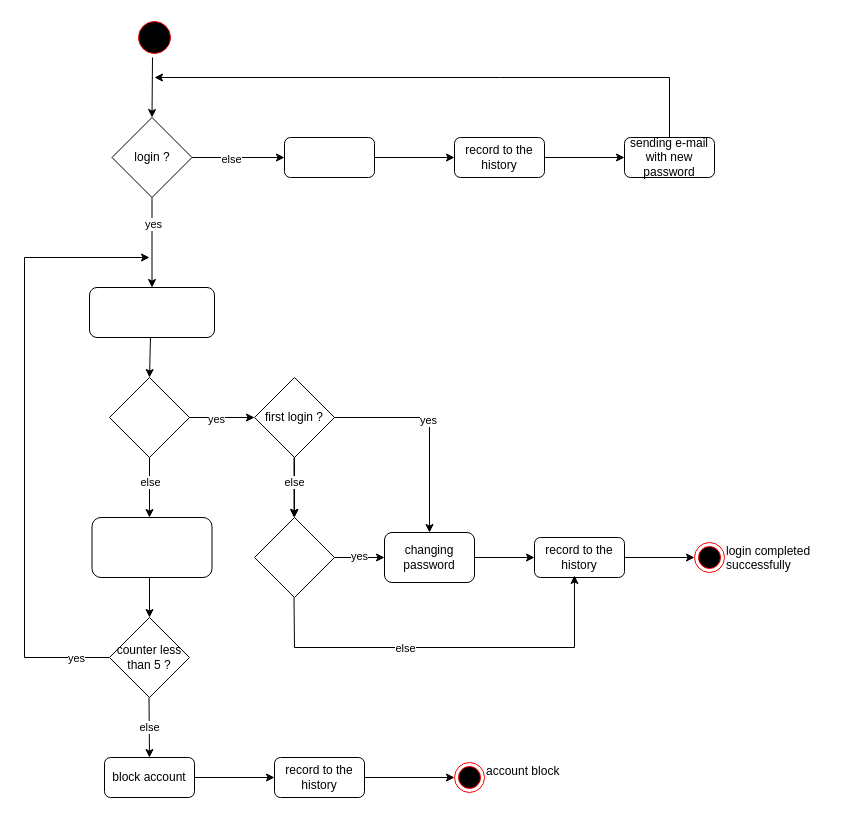
This 842x815 diagram has some shape labels left out. Each missing label, with the centre of its shape:
entering ID and password: point 151,312
increase the counter of incorrect attepts: point 151,547
password active for 90 days: point 294,557
reset password: point 329,157
validation: point 149,417
